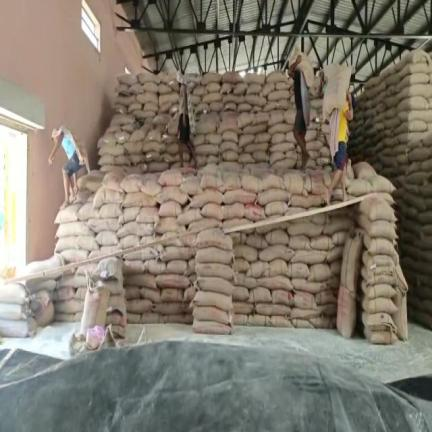Zone-Counting: (323, 64, 352, 204), (288, 53, 313, 168)
